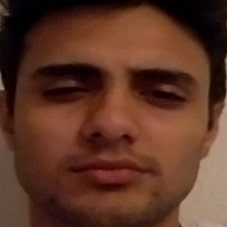drowsy: (30, 51, 201, 193)
